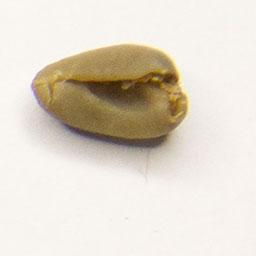premium: (26, 38, 193, 147)
